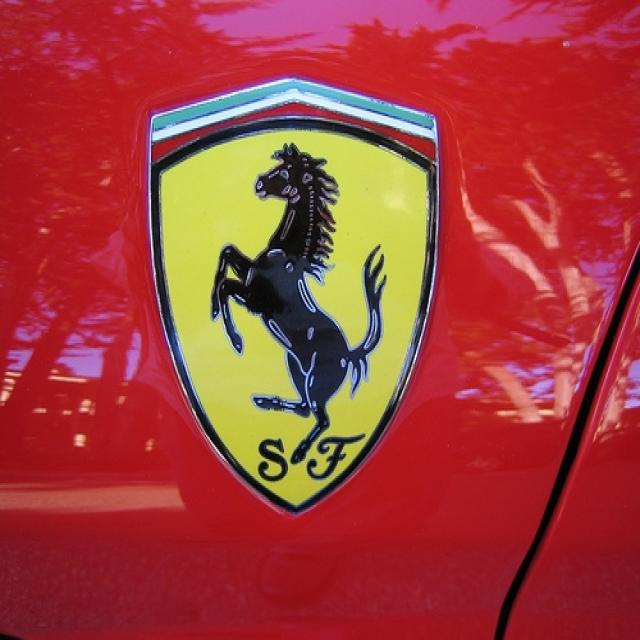ferrari: (151, 78, 440, 516)
